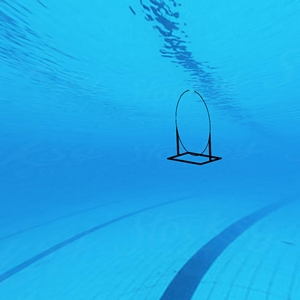circle: (165, 87, 227, 170)
